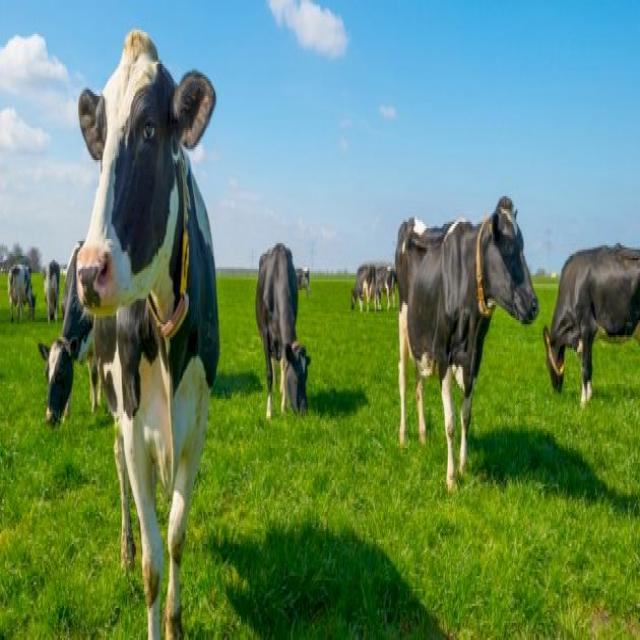cow: (81, 61, 216, 640), (394, 208, 535, 476), (549, 214, 640, 486), (239, 193, 316, 434), (35, 265, 109, 461), (380, 236, 418, 335), (6, 244, 39, 336), (347, 243, 382, 329), (38, 242, 62, 337)
